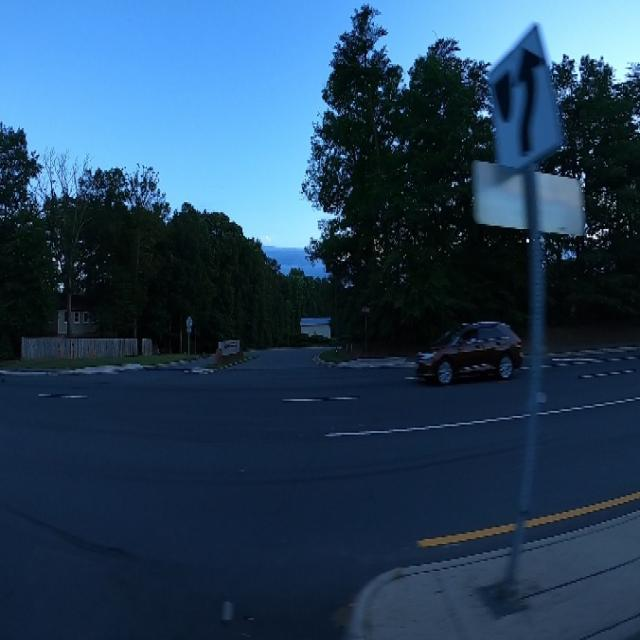car: (411, 307, 528, 388)
